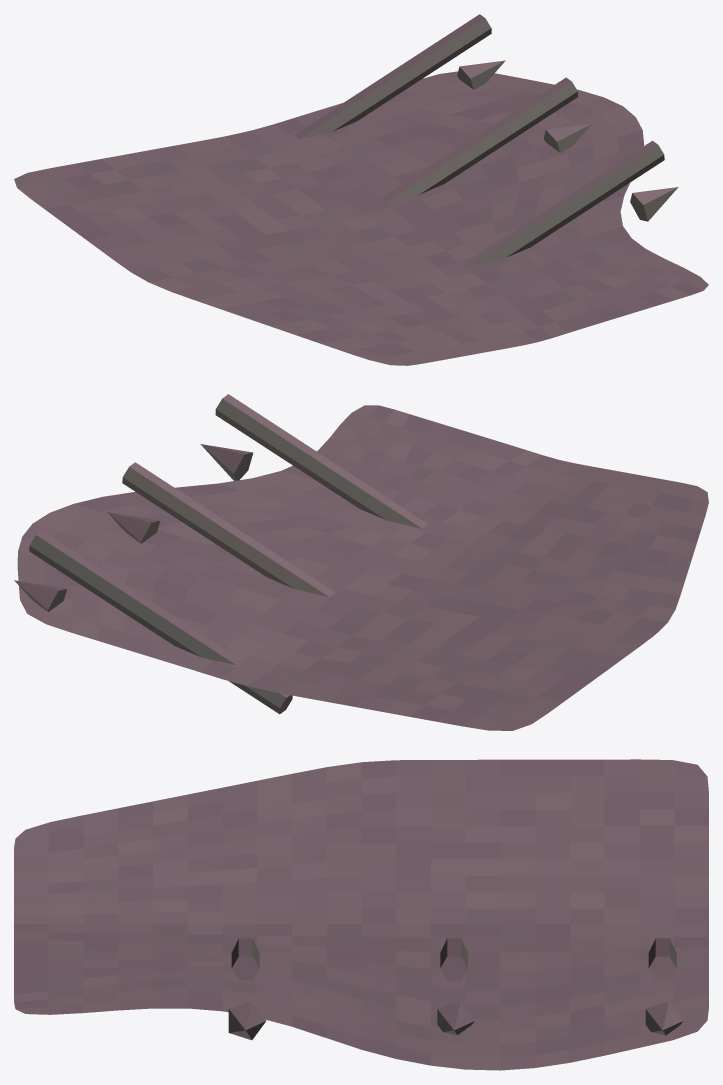
The model's file is Bat_Wing.glb.
The picture shows the model from 3 angles, top to bottom: view 1: azimuth 30°, elevation 25°; view 2: azimuth 150°, elevation 25°; view 3: azimuth 270°, elevation 25°; orthographic projection. The views are drawn at different scales.
Visible parts, largest first — view 1: BatWing; view 2: BatWing; view 3: BatWing.
Boxes of the visible parts, left/top/right/bottom form: BatWing: left=14, top=14, right=708, bottom=365; BatWing: left=14, top=394, right=708, bottom=730; BatWing: left=14, top=759, right=708, bottom=1070.
Bounding box in the file's own units: 0.6442 × 0.1281 × 0.6.
